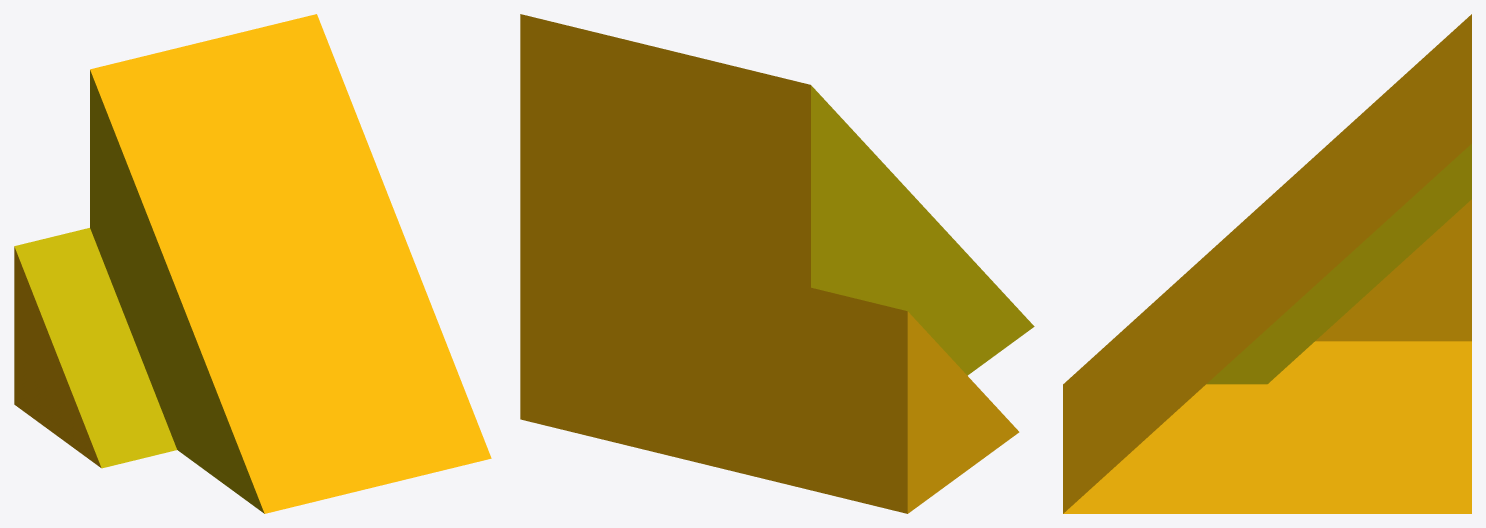
The model's file is wedge_slitted.dae.
3 renders of one model, left to right at view 1: azimuth 30°, elevation 25°; view 2: azimuth 150°, elevation 25°; view 3: azimuth 270°, elevation 25°, orthographic. The views are drawn at different scales.
Visible parts, largest first — view 1: Cube; view 2: Cube; view 3: Cube.
Part boxes in pixels (left/top/right/bottom): Cube: left=14, top=14, right=491, bottom=513; Cube: left=520, top=14, right=1034, bottom=513; Cube: left=1063, top=14, right=1471, bottom=513.
Bounding box in the file's own units: 0.25 × 0.25 × 0.25.
